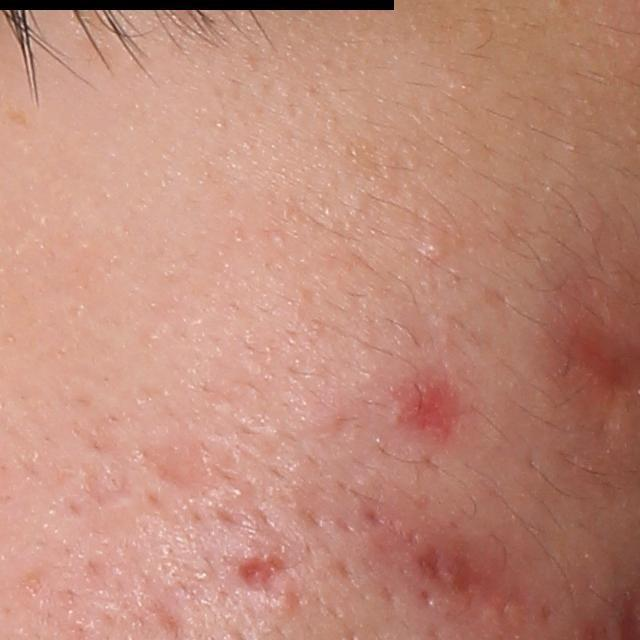atrophic_scar: (145, 448, 214, 496), (233, 548, 296, 592), (448, 551, 507, 596), (415, 541, 444, 584)
comedo: (421, 237, 441, 264)
